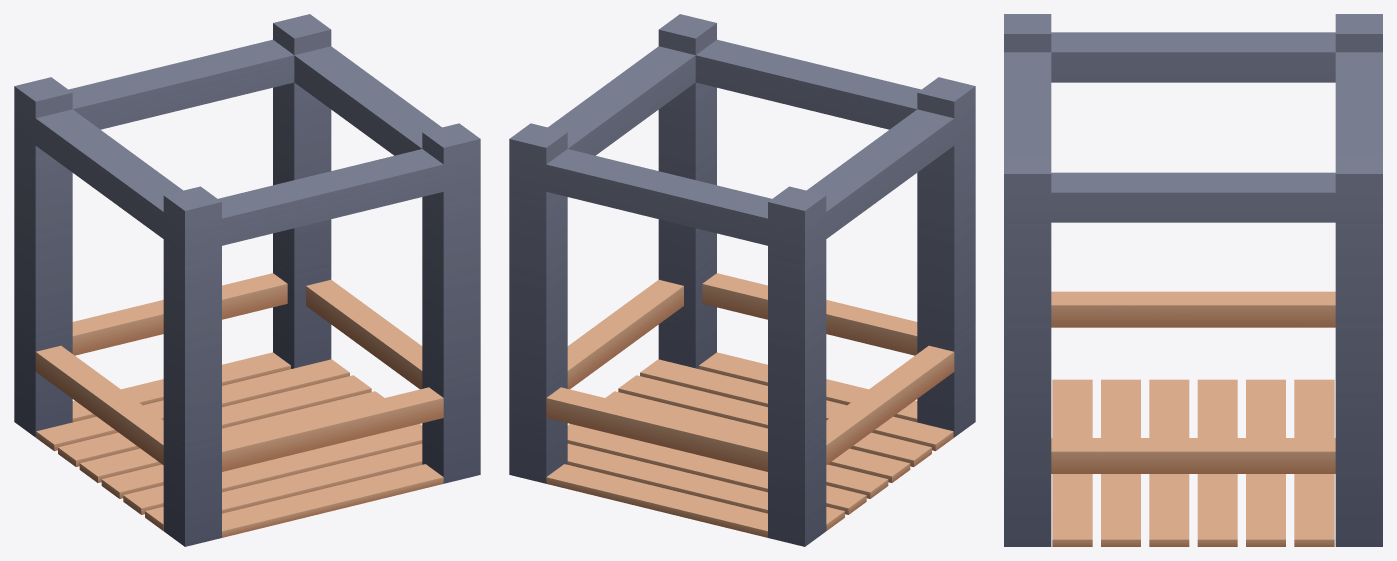
The model's file is tower-square-mid-open.fbx.
The picture shows the model from 3 angles, left to right: view 1: azimuth 30°, elevation 25°; view 2: azimuth 150°, elevation 25°; view 3: azimuth 270°, elevation 25°; orthographic projection. The views are drawn at different scales.
Parts seen in each view (by area): view 1: tower-square-mid-open; view 2: tower-square-mid-open; view 3: tower-square-mid-open.
Part boxes in pixels (left/top/right/bottom): tower-square-mid-open: left=14, top=14, right=480, bottom=546; tower-square-mid-open: left=509, top=14, right=975, bottom=546; tower-square-mid-open: left=1004, top=14, right=1382, bottom=546.
Size of the model in its own units: 0.93 by 0.93 by 1.01.
